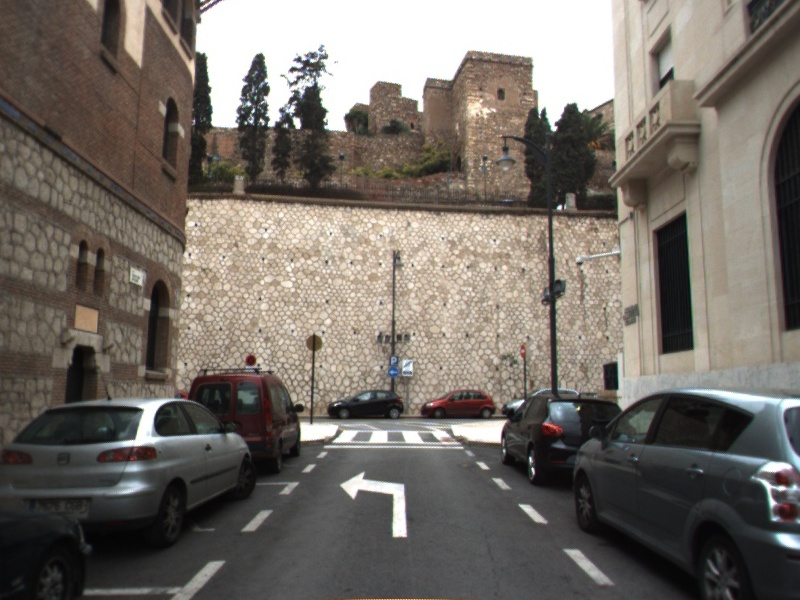LEFT: (338, 469, 410, 540)
